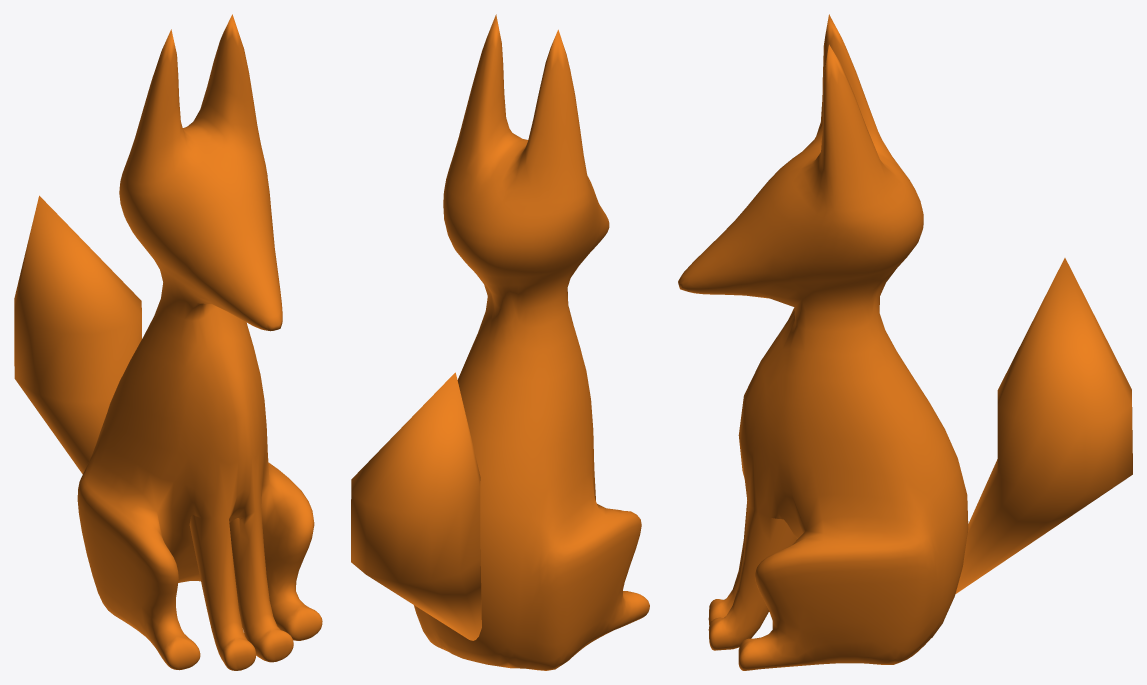
Rendered from fox.dae.
3 renders of one model, left to right at view 1: azimuth 30°, elevation 25°; view 2: azimuth 150°, elevation 25°; view 3: azimuth 270°, elevation 25°, orthographic.
Visible parts, largest first — view 1: foxbody, foxtail; view 2: foxbody, foxtail; view 3: foxbody, foxtail.
Part boxes in pixels (box(x1,y1,x2,y2)): foxbody: box(77, 14, 322, 670); foxtail: box(14, 195, 141, 473); foxbody: box(414, 14, 649, 670); foxtail: box(351, 372, 481, 640); foxbody: box(678, 14, 968, 670); foxtail: box(955, 258, 1132, 593).
Bounding box in the file's own units: 1.75 × 3.85 × 5.71.
